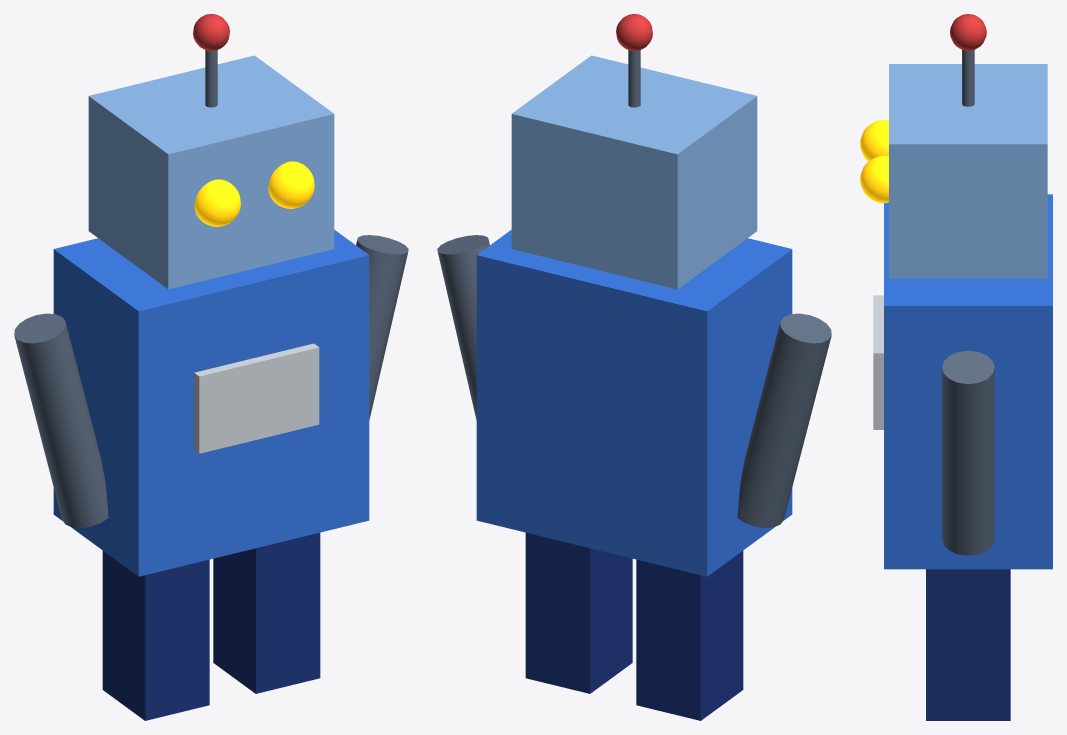
The model's file is robot.glb.
The picture shows the model from 3 angles, left to right: view 1: azimuth 30°, elevation 25°; view 2: azimuth 150°, elevation 25°; view 3: azimuth 270°, elevation 25°; orthographic projection.
Visible parts, largest first — view 1: robot; view 2: robot; view 3: robot.
Part boxes in pixels (x1,y1,x2,y2): robot: (14,14,408,720); robot: (437,14,831,720); robot: (860,14,1052,720).
Bounding box in the file's own units: 0.8408 × 1.39 × 0.365.
